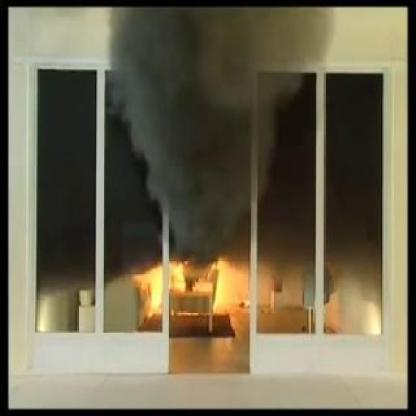Fire: (142, 246, 233, 321)
Smoke: (107, 9, 287, 239)
